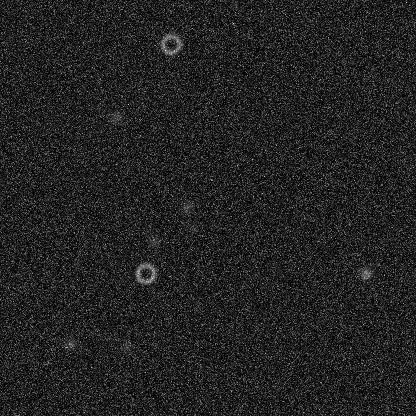Ring: (133, 261, 157, 285), (158, 32, 182, 56)
Spot: (178, 198, 194, 214), (107, 109, 123, 125), (357, 265, 373, 281), (184, 219, 200, 235), (62, 336, 78, 352), (119, 337, 135, 353), (146, 234, 162, 250)
